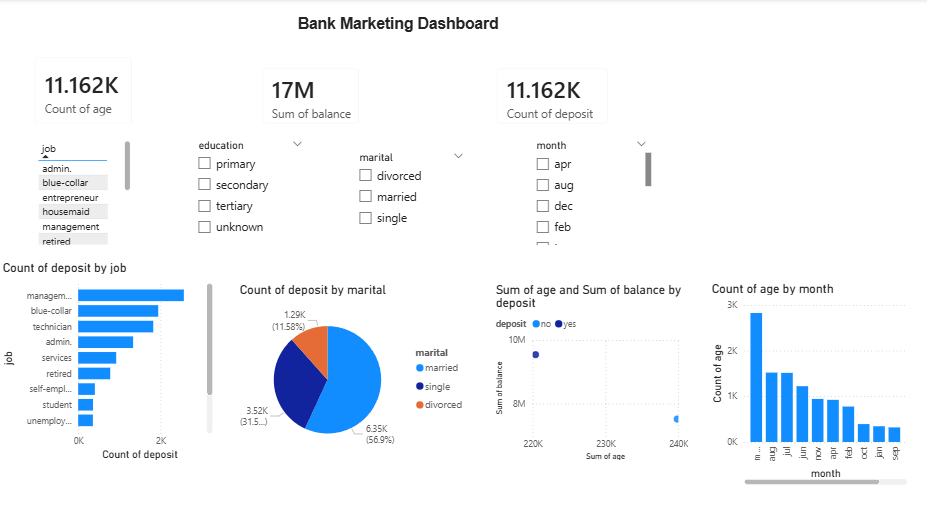

This screenshot's page, from the dashboard's own definition file:
{"tool":"powerbi","page":{"name":"Dashboard","canvas":[1280,720],"ordinal":0},"visuals":[{"type":"cardVisual","fields":{"Data":["CountNonNull(dataset for intern.age)"]},"box":[33.6,63.8,168,126],"z":0},{"type":"textbox","box":[228.5,18.5,806.3,45.4],"z":1000},{"type":"cardVisual","fields":{"Data":["Sum(dataset for intern.balance)"]},"box":[346,79,168,110.9],"z":2000},{"type":"cardVisual","fields":{"Data":["CountNonNull(dataset for intern.deposit)"]},"box":[668.6,79,186.5,110.9],"z":3000},{"type":"tableEx","fields":{"Values":["dataset for intern.job"]},"box":[48.7,189.8,137.7,152.9],"z":4000},{"type":"slicer","fields":{"Values":["dataset for intern.education"]},"box":[262,188.1,168,154.5],"z":5000},{"type":"slicer","fields":{"Values":["dataset for intern.marital"]},"box":[483.8,204.9,168,137.7],"z":6000},{"type":"slicer","fields":{"Values":["dataset for intern.month"]},"box":[727.3,188.1,176.4,154.5],"z":7000},{"type":"clusteredBarChart","fields":{"Category":["dataset for intern.job"],"Y":["CountNonNull(dataset for intern.deposit)"]},"box":[0,359.5,299,280.5],"z":8000},{"type":"pieChart","fields":{"Category":["dataset for intern.marital"],"Y":["CountNonNull(dataset for intern.deposit)"]},"box":[325.9,389.7,325.9,250.3],"z":9000},{"type":"scatterChart","fields":{"X":["Sum(dataset for intern.age)"],"Y":["Sum(dataset for intern.balance)"],"Series":["dataset for intern.deposit"]},"box":[678.6,389.7,275.5,250.3],"z":10000},{"type":"columnChart","fields":{"Category":["dataset for intern.month"],"Y":["CountNonNull(dataset for intern.age)"]},"box":[976,388,278.8,285.6],"z":11000}]}

Visuals, with their boxes in screenshot pixels (x1, y1, x2, y2), scaled from the page's 1280x720 canvas onto the 927x521 screenshot:
cardVisual - CountNonNull(dataset for intern.age): [24,46,146,137]
textbox: [165,13,749,46]
cardVisual - Sum(dataset for intern.balance): [251,57,372,137]
cardVisual - CountNonNull(dataset for intern.deposit): [484,57,619,137]
tableEx - dataset for intern.job: [35,137,135,248]
slicer - dataset for intern.education: [190,136,311,248]
slicer - dataset for intern.marital: [350,148,472,248]
slicer - dataset for intern.month: [527,136,654,248]
clusteredBarChart - dataset for intern.job x CountNonNull(dataset for intern.deposit): [0,260,217,463]
pieChart - dataset for intern.marital x CountNonNull(dataset for intern.deposit): [236,282,472,463]
scatterChart - Sum(dataset for intern.age) x Sum(dataset for intern.balance): [491,282,691,463]
columnChart - dataset for intern.month x CountNonNull(dataset for intern.age): [707,281,909,487]
